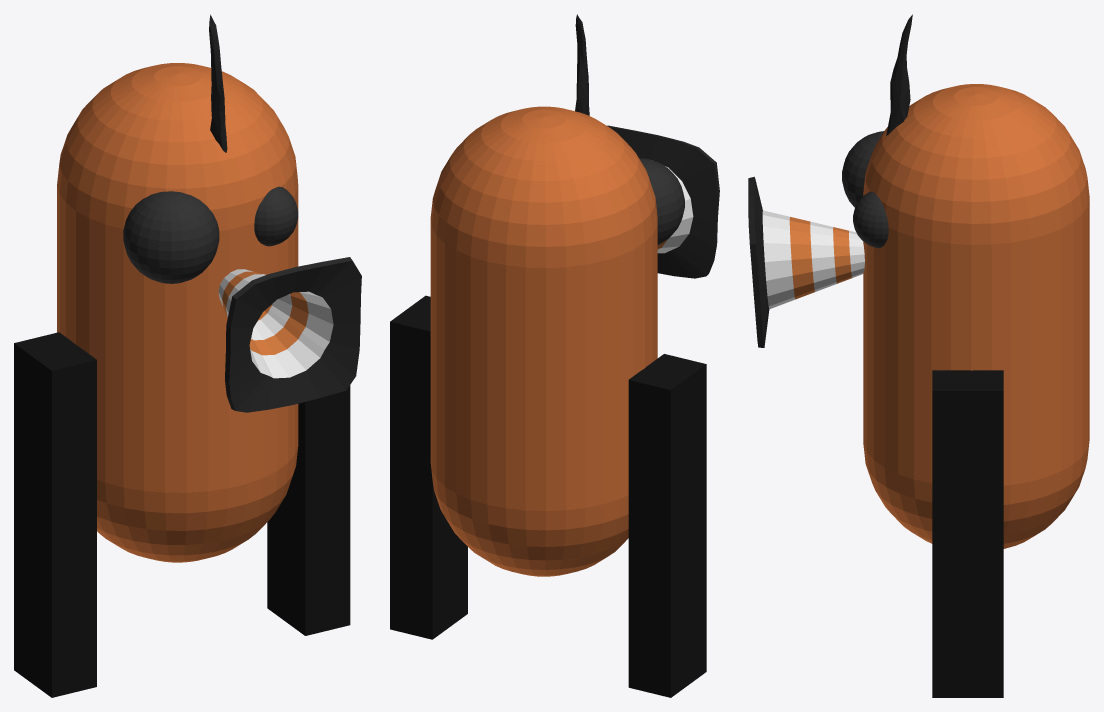
Rendered from glassbreakersPlayer.fbx.
The picture shows the model from 3 angles, left to right: view 1: azimuth 30°, elevation 25°; view 2: azimuth 150°, elevation 25°; view 3: azimuth 270°, elevation 25°; orthographic projection. The views are drawn at different scales.
Visible parts, largest first — view 1: Plane, Plane.001; view 2: Plane, Plane.001; view 3: Plane, Plane.001.
Boxes of the visible parts, <box> form: Plane: <box>14,14,350,697</box>; Plane.001: <box>218,257,361,412</box>; Plane: <box>390,14,706,697</box>; Plane.001: <box>607,125,719,278</box>; Plane: <box>842,14,1089,697</box>; Plane.001: <box>748,176,864,347</box>.
Bounding box in the file's own units: 285 × 599 × 301.
